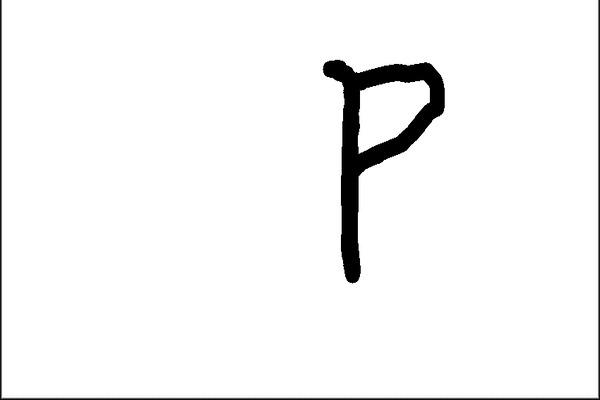P: (309, 42, 455, 288)
